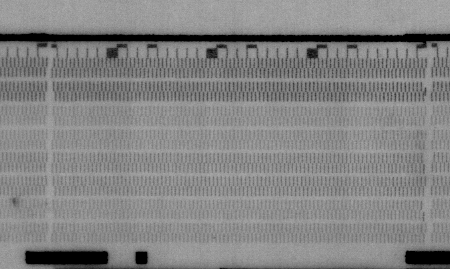Oblique printing: (421, 82, 430, 96)
